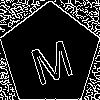M: (25, 30, 77, 86)
